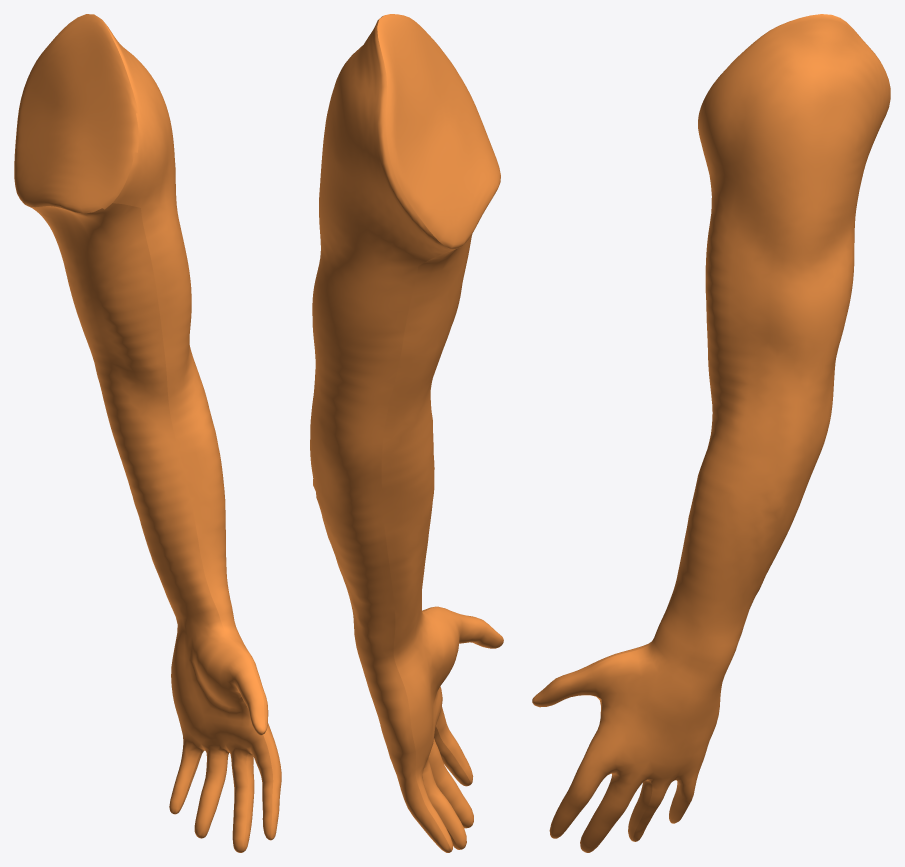
3 views of the same model, side by side, from view 1: azimuth 30°, elevation 25°; view 2: azimuth 150°, elevation 25°; view 3: azimuth 270°, elevation 25° (orthographic). The views are drawn at different scales.
Parts seen in each view (by area): view 1: arm2OBJcleanermaterialmergergles; view 2: arm2OBJcleanermaterialmergergles; view 3: arm2OBJcleanermaterialmergergles.
Boxes of the visible parts, x1,y1,x2,y2 form: arm2OBJcleanermaterialmergergles: (14, 14, 281, 852); arm2OBJcleanermaterialmergergles: (310, 14, 503, 852); arm2OBJcleanermaterialmergergles: (532, 14, 890, 852).
Size of the model in its own units: 3.61 by 17.36 by 6.89.
